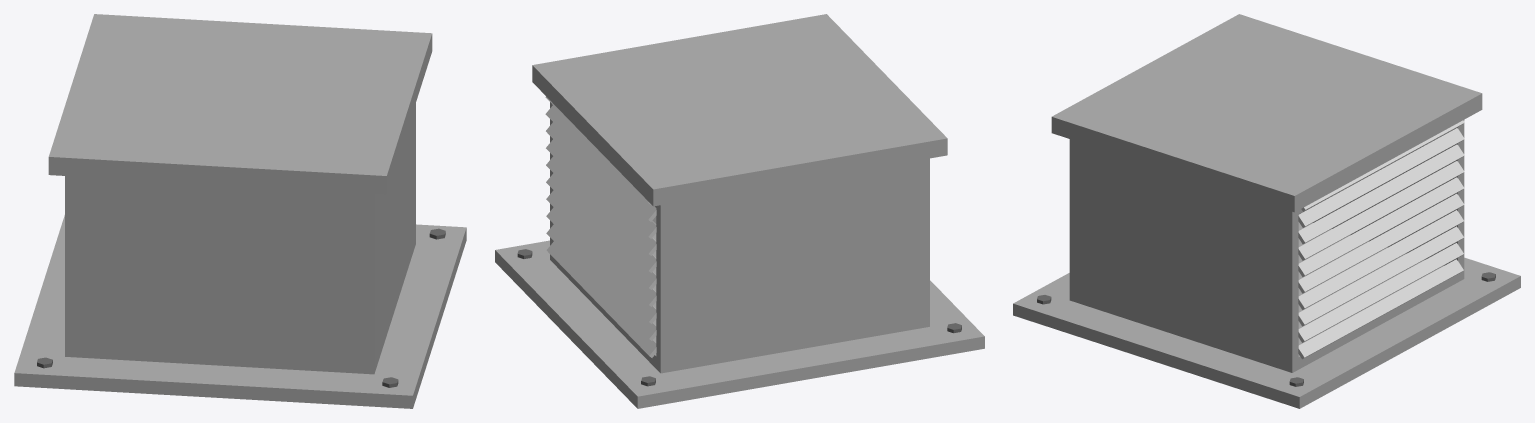
The model's file is Terrace Object 1.fbx.
3 views of the same model, side by side, from view 1: azimuth 30°, elevation 25°; view 2: azimuth 150°, elevation 25°; view 3: azimuth 270°, elevation 25° (orthographic). The views are drawn at different scales.
Visible parts, largest first — view 1: Terrace Object 1; view 2: Terrace Object 1; view 3: Terrace Object 1.
Part boxes in pixels (x1,y1,x2,y2): Terrace Object 1: [14, 14, 466, 408]; Terrace Object 1: [495, 14, 984, 408]; Terrace Object 1: [1013, 14, 1520, 408].
Size of the model in its own units: 343 by 343 by 147.
